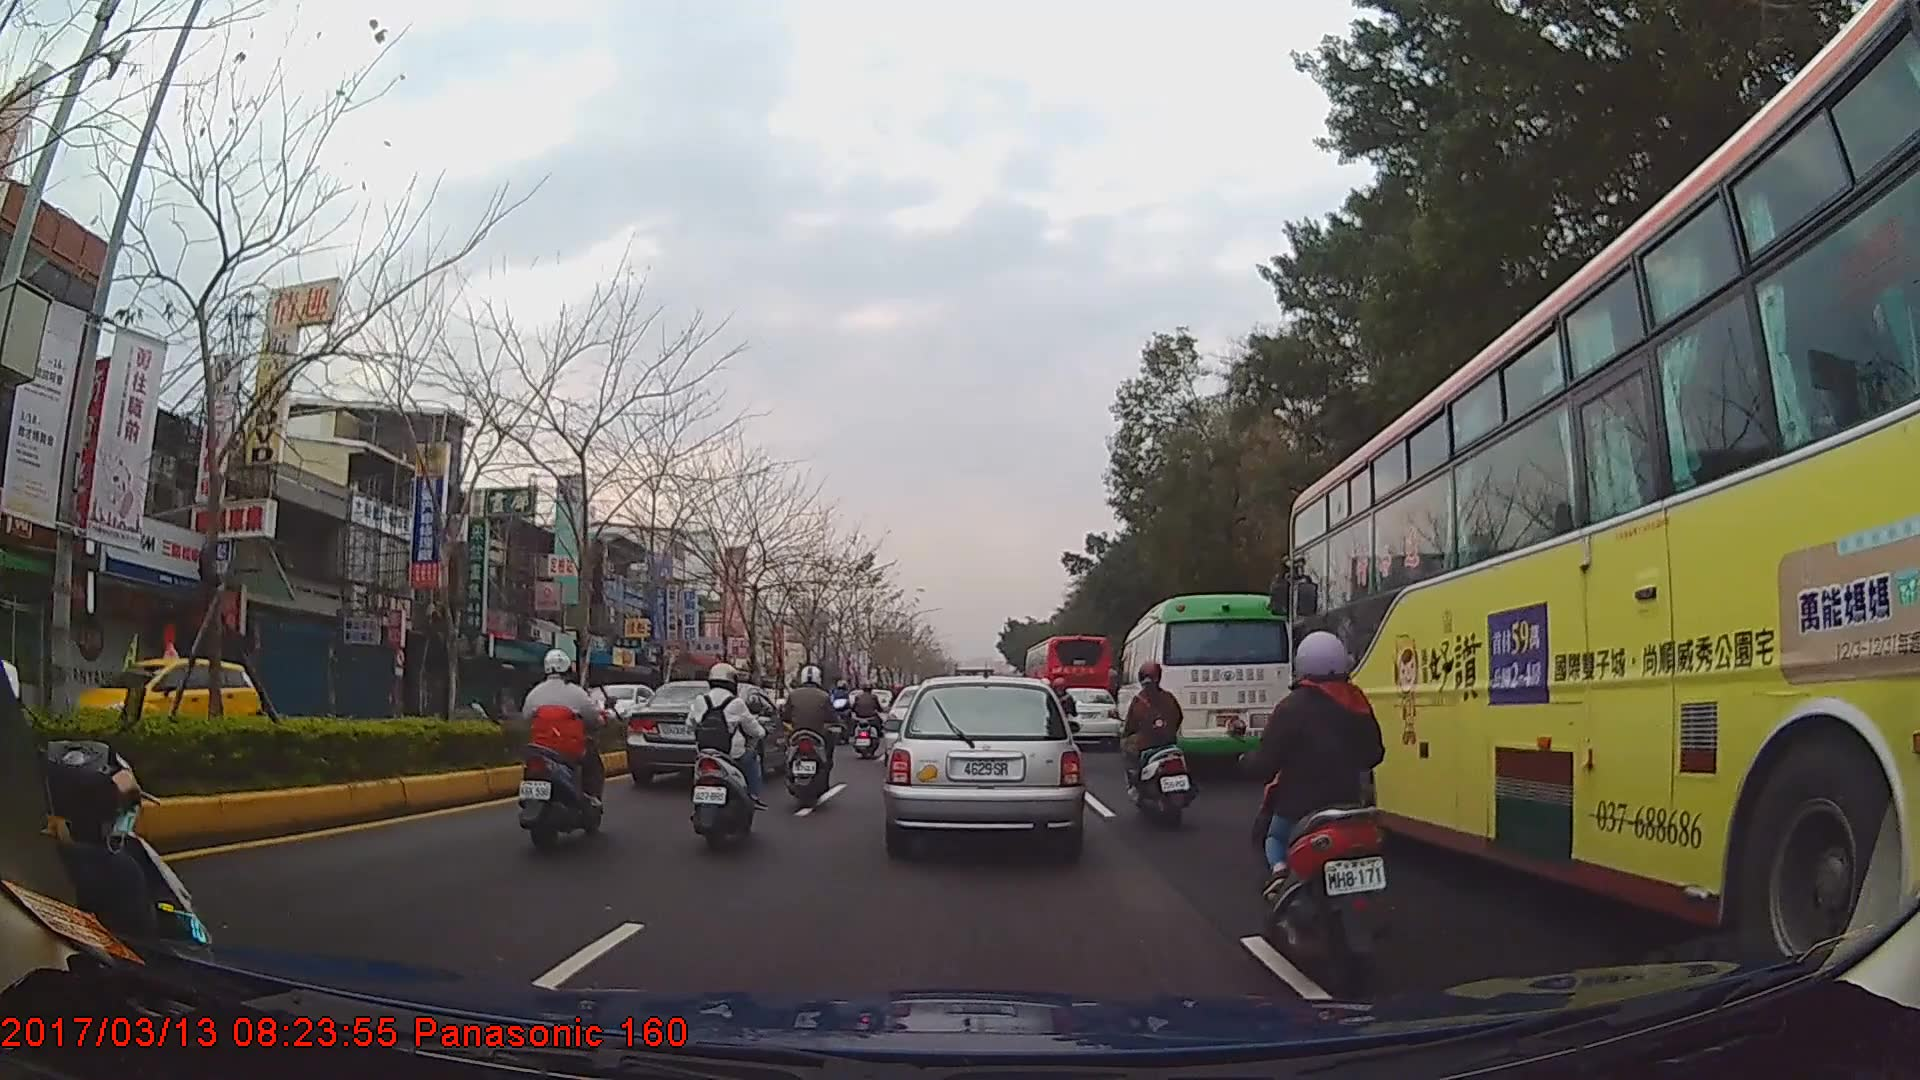rider: (1, 514, 217, 989), (1257, 624, 1396, 989), (519, 647, 608, 854), (683, 661, 763, 854), (1121, 660, 1192, 822), (780, 666, 846, 809), (850, 681, 887, 762), (833, 680, 857, 727)
vehicle: (1283, 0, 1920, 1021), (884, 671, 1083, 856), (1115, 591, 1292, 781), (67, 641, 263, 756), (624, 678, 791, 791), (1023, 632, 1111, 742), (1051, 685, 1118, 745)
